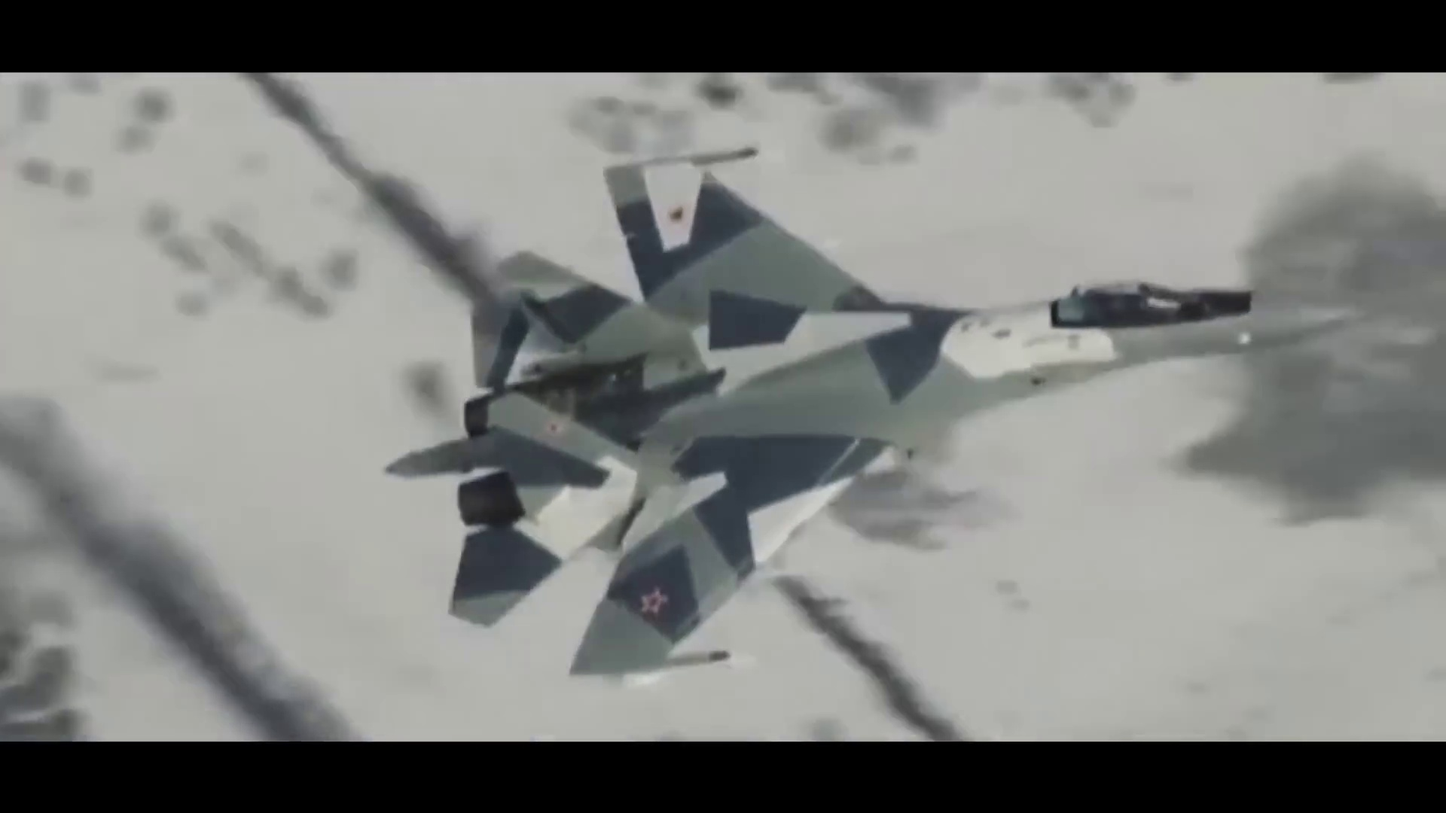Su35: (384, 146, 1368, 685)
